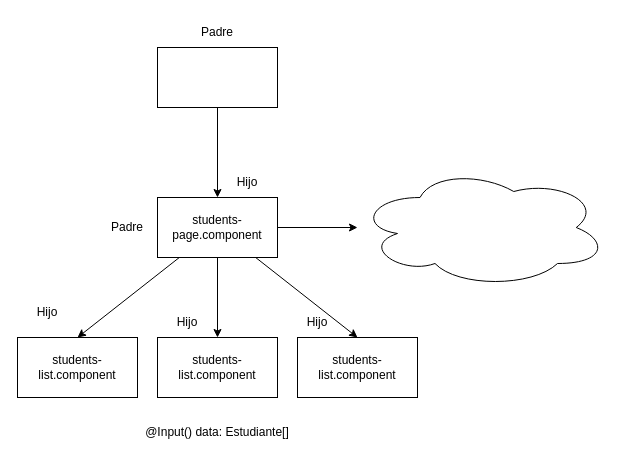
Image size: 625x464. Some labels were removed from this diagram. Each missing label, with the box of its shape:
app.component: (156, 46, 278, 108)
estudiantesAprobados estudiantesDesaprobados estudiantesAusentes: (356, 166, 608, 288)
